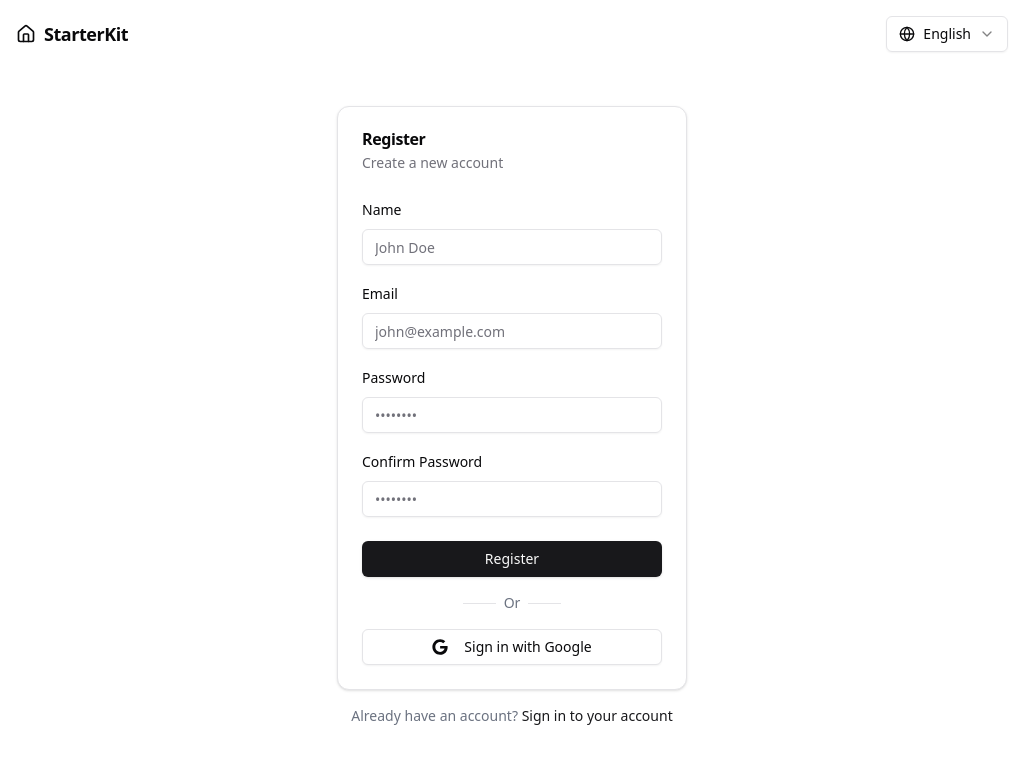
Test case: AuthPage › password validation › displays error when password is too short
This screenshot has width=1024, height=768.
Type "short" into the password field labelled "Password" at [512, 415], box [362,397,662,433]
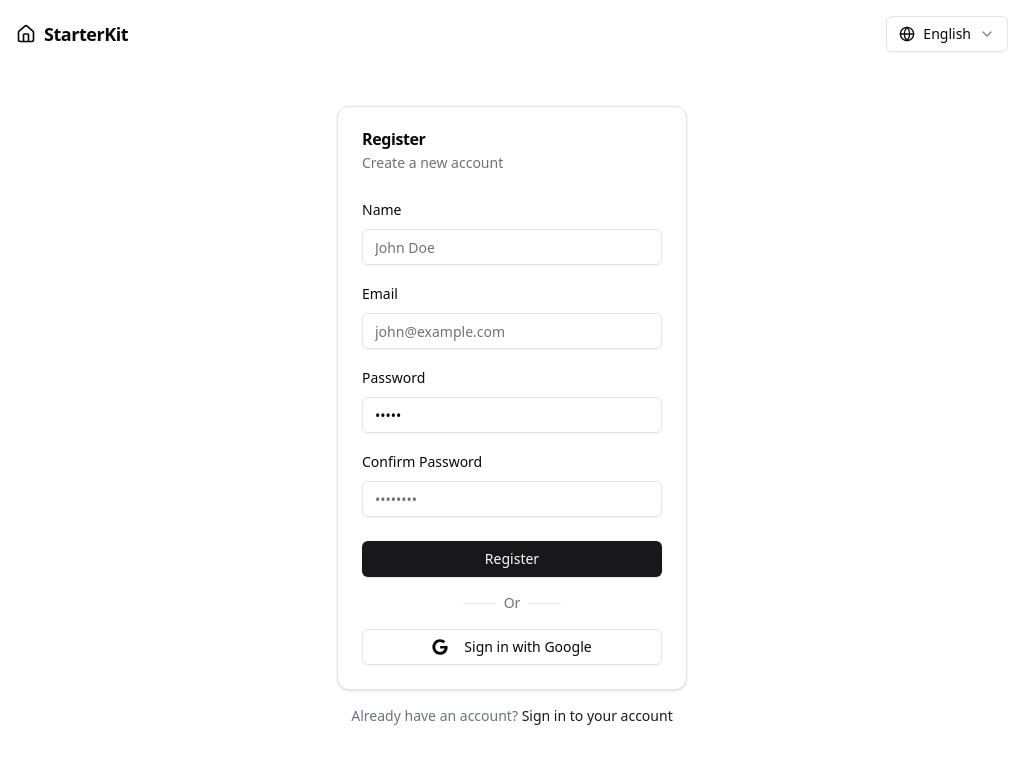
Submit the form with test id "register-form", box [338,197,686,689]
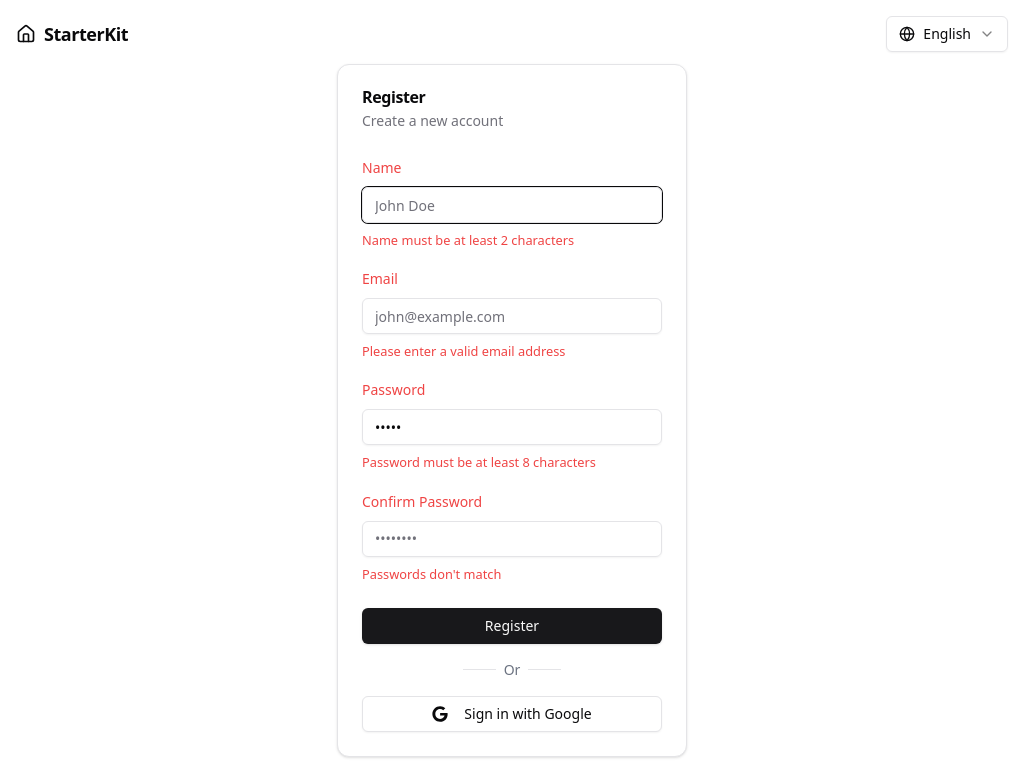
Expected: the text "Password must be at least 8 characters" is shown, [362,453,596,471]
